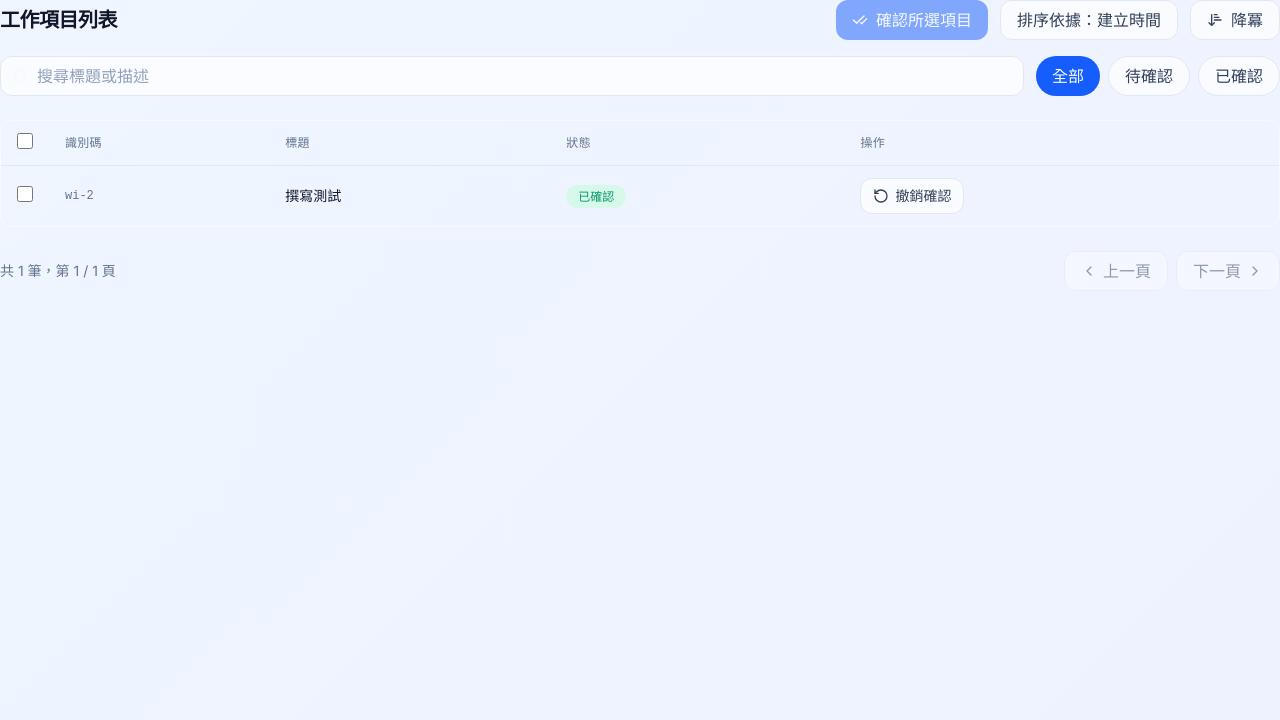
Test: WorkItemsList › 點擊撤銷開啟確認對話框，取消則關閉且不發送請求
This screenshot has width=1280, height=720.
expect the link "撰寫測試" is shown: met, box [285, 187, 341, 204]
Click the button with aria-label "撤銷確認 撰寫測試".
click(912, 196)  # box [860, 178, 964, 214]
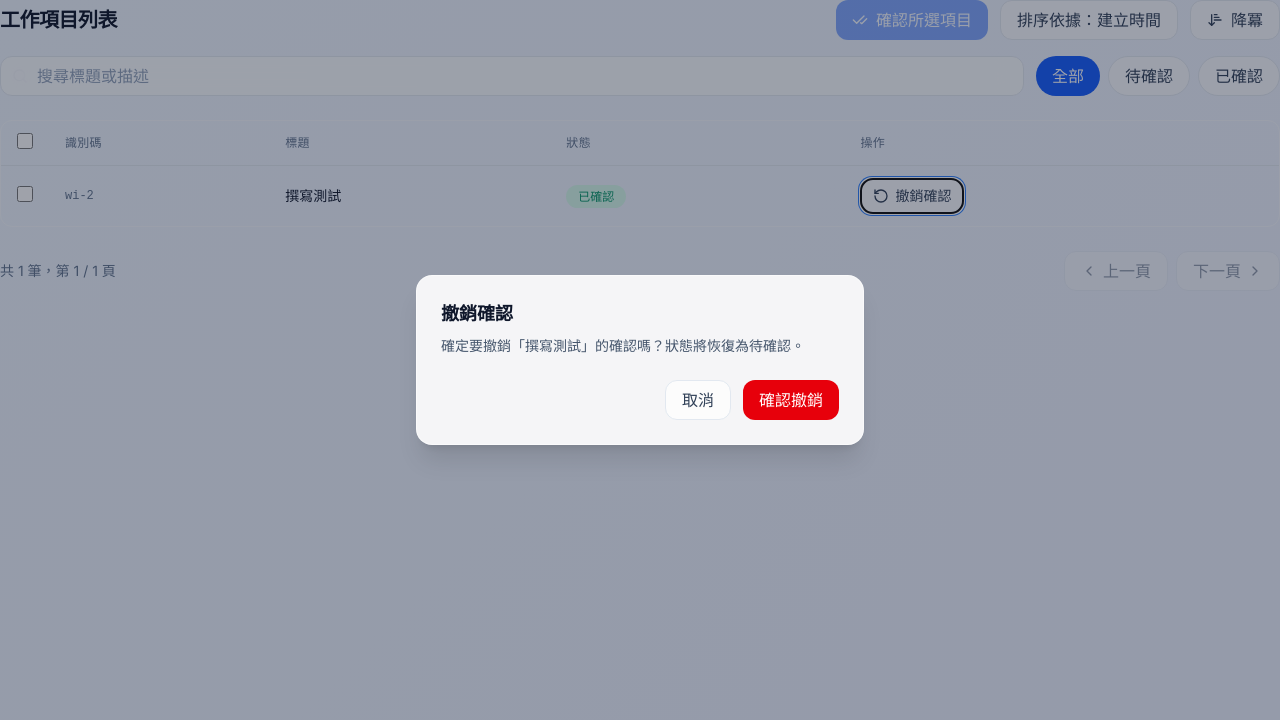
expect the dialog is shown: met, box [416, 275, 864, 445]
Click the button "取消".
click(698, 400)  # box [665, 380, 731, 420]
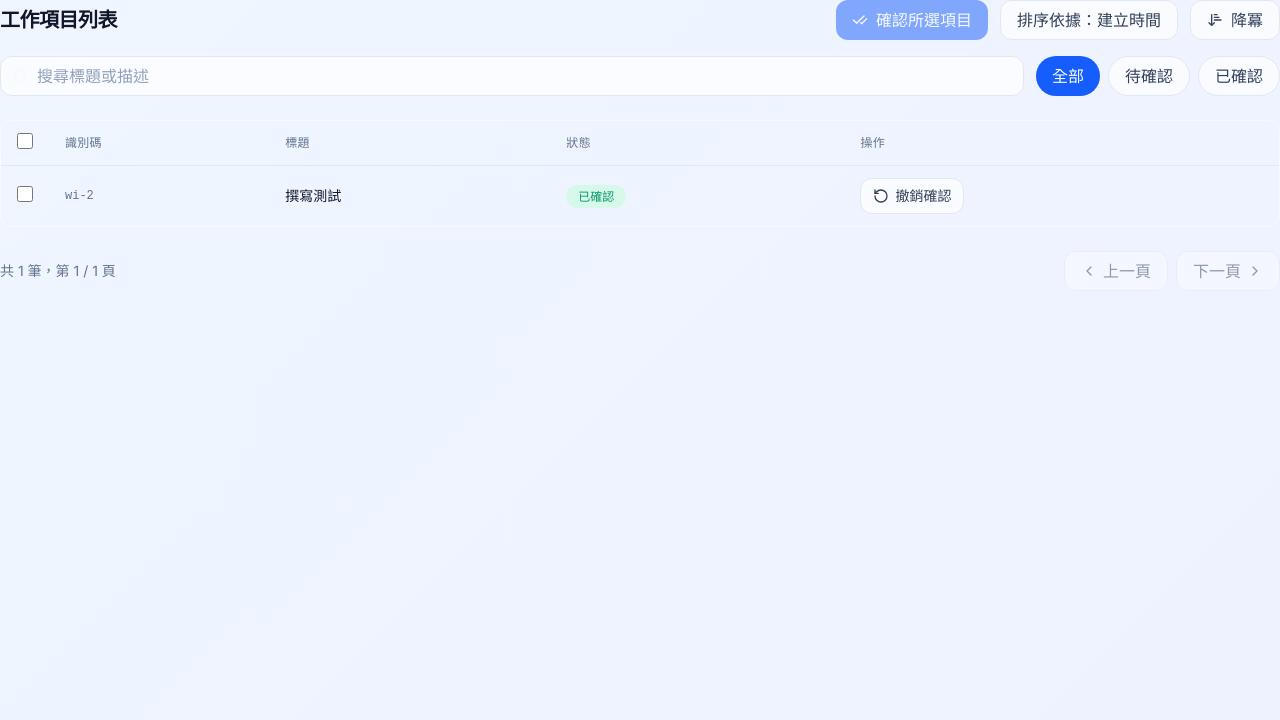
expect the dialog is gone: met
